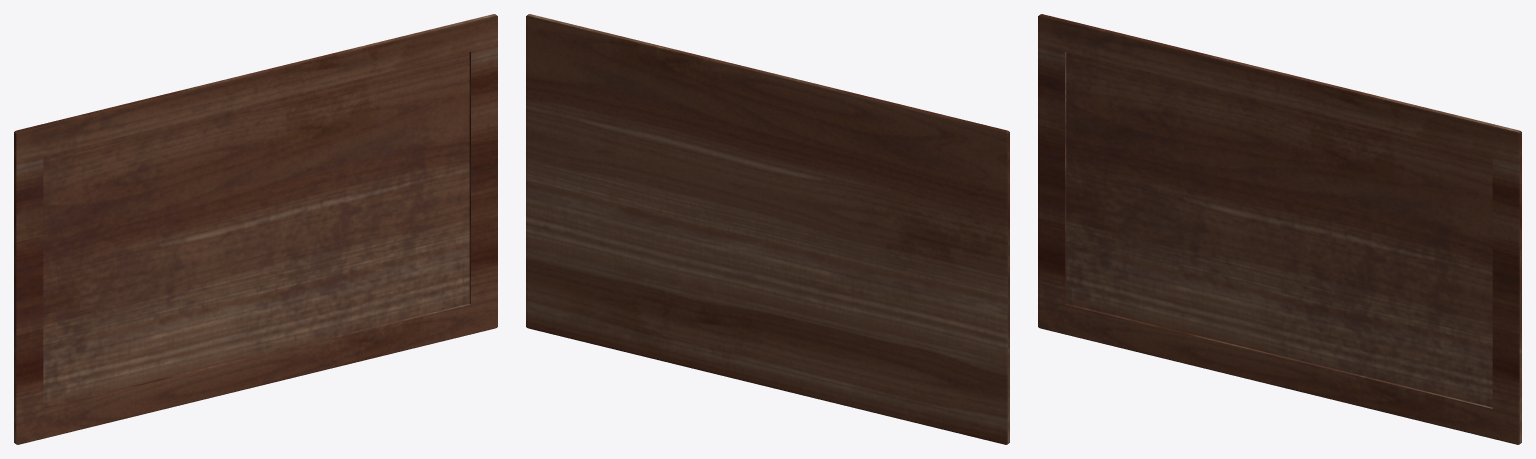
File: frame3.FBX
3 views of the same model, side by side, from view 1: azimuth 30°, elevation 25°; view 2: azimuth 150°, elevation 25°; view 3: azimuth 330°, elevation 25° (orthographic).
Parts seen in each view (by area): view 1: frame003; view 2: frame003; view 3: frame003.
Part boxes in pixels (x1=…): frame003: x1=14, y1=14, x2=497, y2=444; frame003: x1=526, y1=14, x2=1009, y2=444; frame003: x1=1038, y1=14, x2=1521, y2=444.
Bounding box in the file's own units: 293 × 182 × 2.54.
